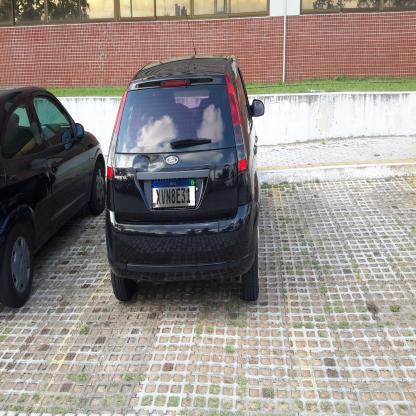PlacaM: (151, 178, 196, 210)
